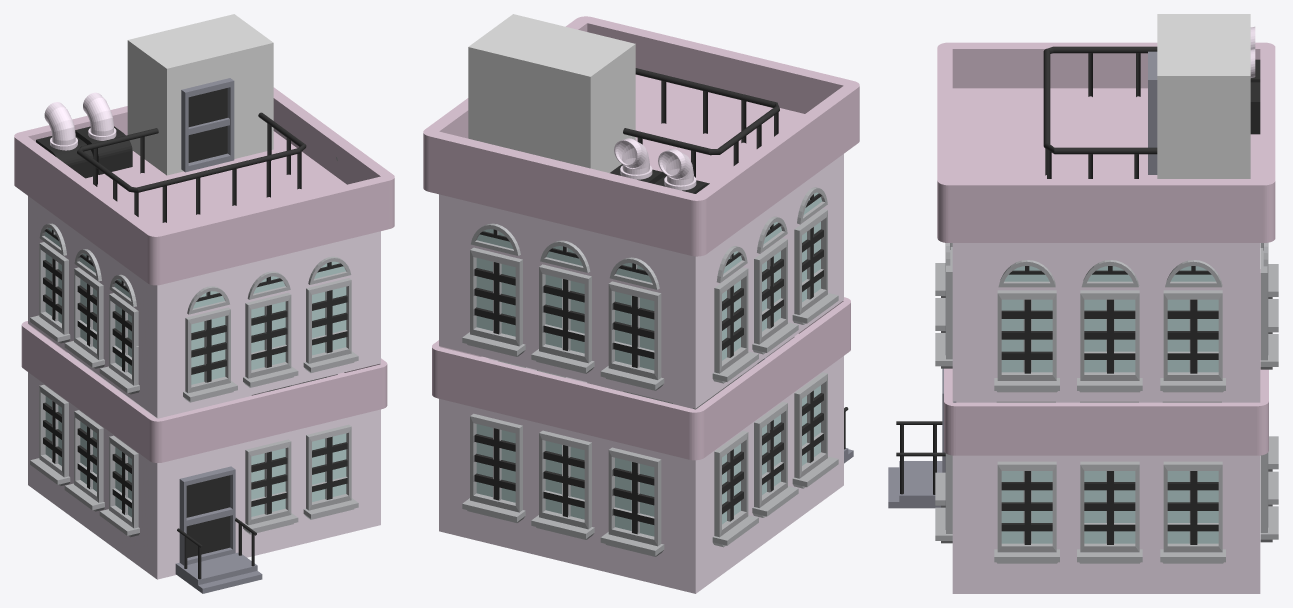
File: Tekkatlbina.fbx
3 views of the same model, side by side, from view 1: azimuth 30°, elevation 25°; view 2: azimuth 150°, elevation 25°; view 3: azimuth 270°, elevation 25° (orthographic). The views are drawn at different scales.
Visible parts, largest first — view 1: kolonlar, Cube.158, Cube.160, Cylinder.001, Cube.003, Cube.161, Cube.002, Cube.060, Cylinder.015, Cube.109, Cube.063, Cube.059 (+29 smaller); view 2: kolonlar, Cube.158, Cylinder.001, Cube.071, Cube.113, Cube.073, Cube.114, Cube.075, Cube.115, Cube.112, Cube.069, Cube.110 (+25 smaller); view 3: kolonlar, Cube.158, Cylinder.001, Cube.055, Cube.104, Cube.053, Cube.106, Cube.052, Cube.107, Cube.160, Cube.134, Cube.137 (+20 smaller).
Boxes of the visible parts, left/top/right/bottom form: kolonlar: left=14, top=87, right=394, bottom=579; Cube.158: left=127, top=14, right=273, bottom=175; Cube.160: left=175, top=466, right=262, bottom=593; Cylinder.001: left=77, top=112, right=306, bottom=222; Cube.003: left=186, top=475, right=230, bottom=557; Cube.161: left=181, top=78, right=234, bottom=172; Cube.002: left=188, top=88, right=227, bottom=162; Cube.060: left=243, top=292, right=298, bottom=387; Cylinder.015: left=44, top=92, right=116, bottom=150; Cube.109: left=243, top=439, right=298, bottom=534; Cube.063: left=183, top=307, right=237, bottom=402; Cube.059: left=303, top=278, right=358, bottom=372; kolonlar: left=423, top=16, right=859, bottom=593; Cube.158: left=468, top=14, right=635, bottom=172; Cylinder.001: left=623, top=68, right=779, bottom=177; Cube.071: left=600, top=281, right=664, bottom=390; Cube.113: left=600, top=447, right=664, bottom=556; Cube.073: left=531, top=264, right=594, bottom=373; Cube.114: left=531, top=430, right=594, bottom=539; Cube.075: left=462, top=247, right=525, bottom=356; Cube.115: left=462, top=413, right=525, bottom=522; Cube.112: left=712, top=431, right=758, bottom=547; Cube.069: left=712, top=267, right=758, bottom=383; Cube.110: left=792, top=372, right=838, bottom=488; kolonlar: left=937, top=42, right=1275, bottom=593; Cube.158: left=1157, top=14, right=1250, bottom=178; Cylinder.001: left=1043, top=46, right=1157, bottom=178; Cube.055: left=1160, top=290, right=1225, bottom=392; Cube.104: left=1160, top=461, right=1225, bottom=563; Cube.053: left=1077, top=290, right=1142, bottom=392; Cube.106: left=1077, top=461, right=1142, bottom=563; Cube.052: left=994, top=290, right=1059, bottom=392; Cube.107: left=994, top=461, right=1059, bottom=563; Cube.160: left=888, top=368, right=956, bottom=508; Cube.134: left=1167, top=299, right=1218, bottom=372; Cube.137: left=1084, top=299, right=1135, bottom=372.
Size of the model in its own units: 493 by 803 by 562.
